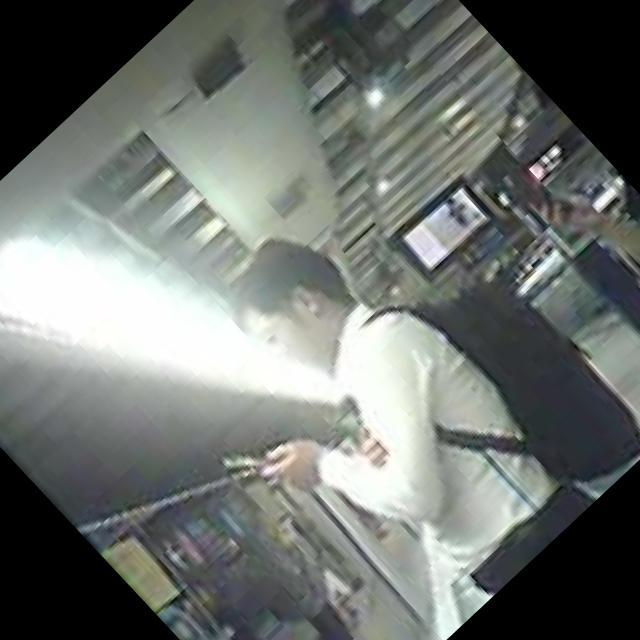person: (148, 186, 606, 640), (509, 129, 640, 401)
